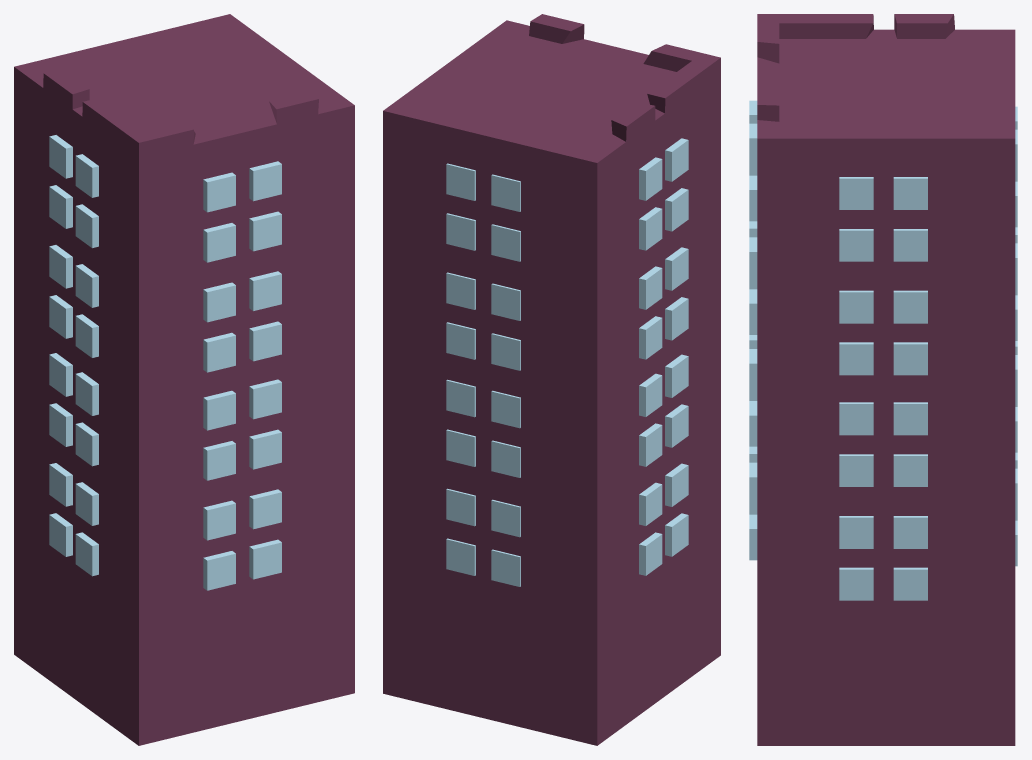
File: butas.fbx
3 renders of one model, left to right at view 1: azimuth 30°, elevation 25°; view 2: azimuth 150°, elevation 25°; view 3: azimuth 270°, elevation 25°, orthographic. The views are drawn at different scales.
Parts seen in each view (by area): view 1: pastatas.001; view 2: pastatas.001; view 3: pastatas.001.
Boxes of the visible parts, bbox=[...] form: pastatas.001: bbox=[14, 14, 354, 745]; pastatas.001: bbox=[383, 14, 720, 745]; pastatas.001: bbox=[749, 14, 1017, 745].
Bounding box in the file's own units: 1573 × 4000 × 1561.
